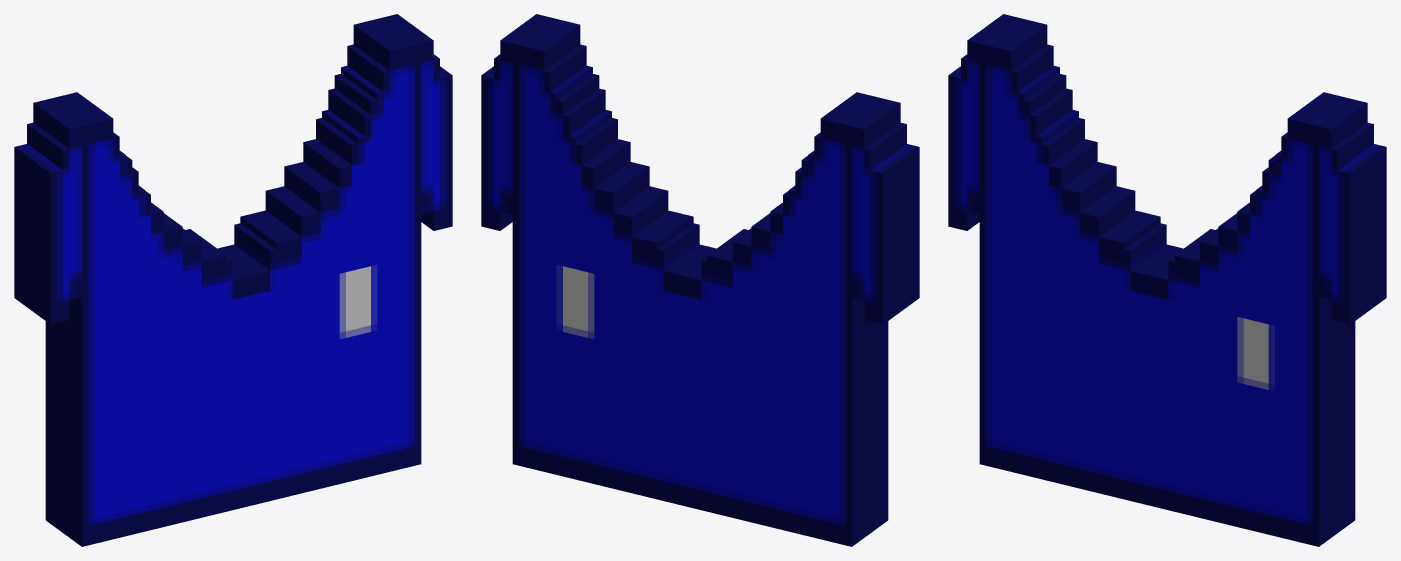
3 views of the same model, side by side, from view 1: azimuth 30°, elevation 25°; view 2: azimuth 150°, elevation 25°; view 3: azimuth 330°, elevation 25° (orthographic).
Visible parts, largest first — view 1: wearable_418; view 2: wearable_418; view 3: wearable_418.
Part boxes in pixels (x1,y1,x2,y2): wearable_418: (14,14,452,546); wearable_418: (481,14,919,546); wearable_418: (948,14,1386,546).
Bounding box in the file's own units: 2 × 2 × 0.3125.
